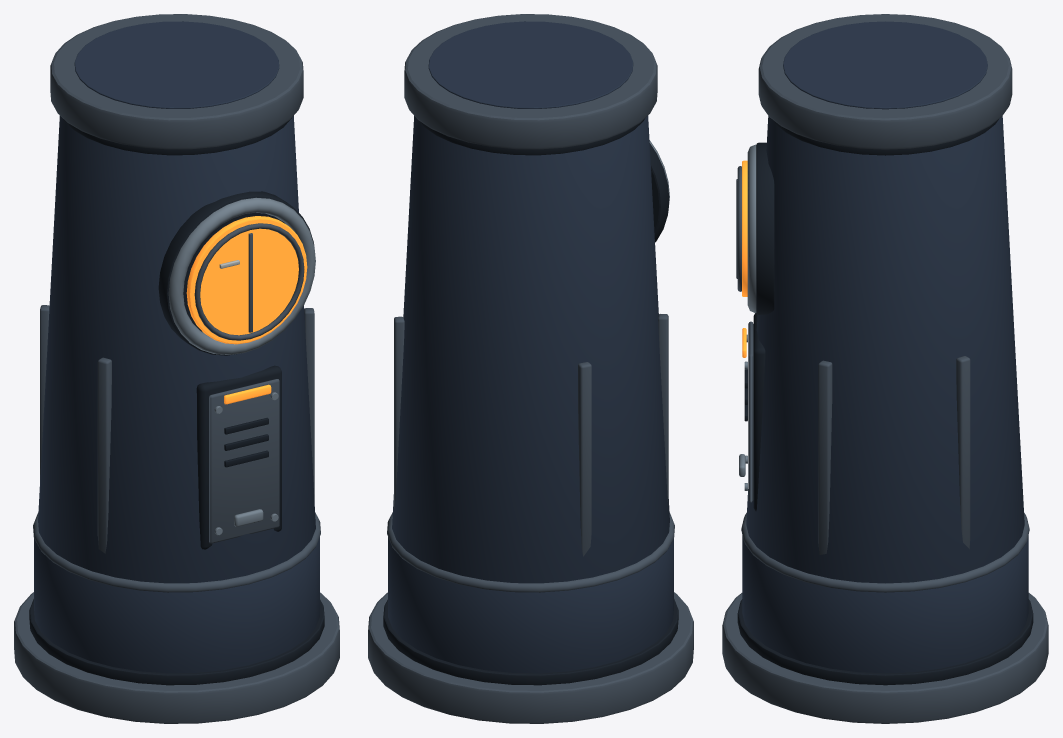
File: PowerConduit.glb
The picture shows the model from 3 angles, left to right: view 1: azimuth 30°, elevation 25°; view 2: azimuth 150°, elevation 25°; view 3: azimuth 270°, elevation 25°; orthographic projection.
Parts seen in each view (by area): view 1: ShellMesh, HousingDetailMesh, RecessMesh, CoreMesh, FastenerMesh; view 2: ShellMesh, HousingDetailMesh, RecessMesh; view 3: ShellMesh, HousingDetailMesh, RecessMesh, FastenerMesh, CoreMesh.
Boxes of the visible parts, box(x1,y1,x2,y2) form: ShellMesh: box(34, 21, 319, 673); HousingDetailMesh: box(14, 14, 339, 723); RecessMesh: box(29, 118, 324, 685); CoreMesh: box(186, 216, 307, 344); FastenerMesh: box(168, 197, 315, 535); ShellMesh: box(388, 21, 673, 673); HousingDetailMesh: box(368, 14, 693, 723); RecessMesh: box(383, 118, 678, 685); ShellMesh: box(742, 21, 1028, 673); HousingDetailMesh: box(722, 14, 1048, 723); RecessMesh: box(737, 119, 1033, 685); FastenerMesh: box(739, 144, 756, 490); CoreMesh: box(742, 160, 747, 296).
Size of the model in its own units: 0.9 by 1.8 by 0.9.
